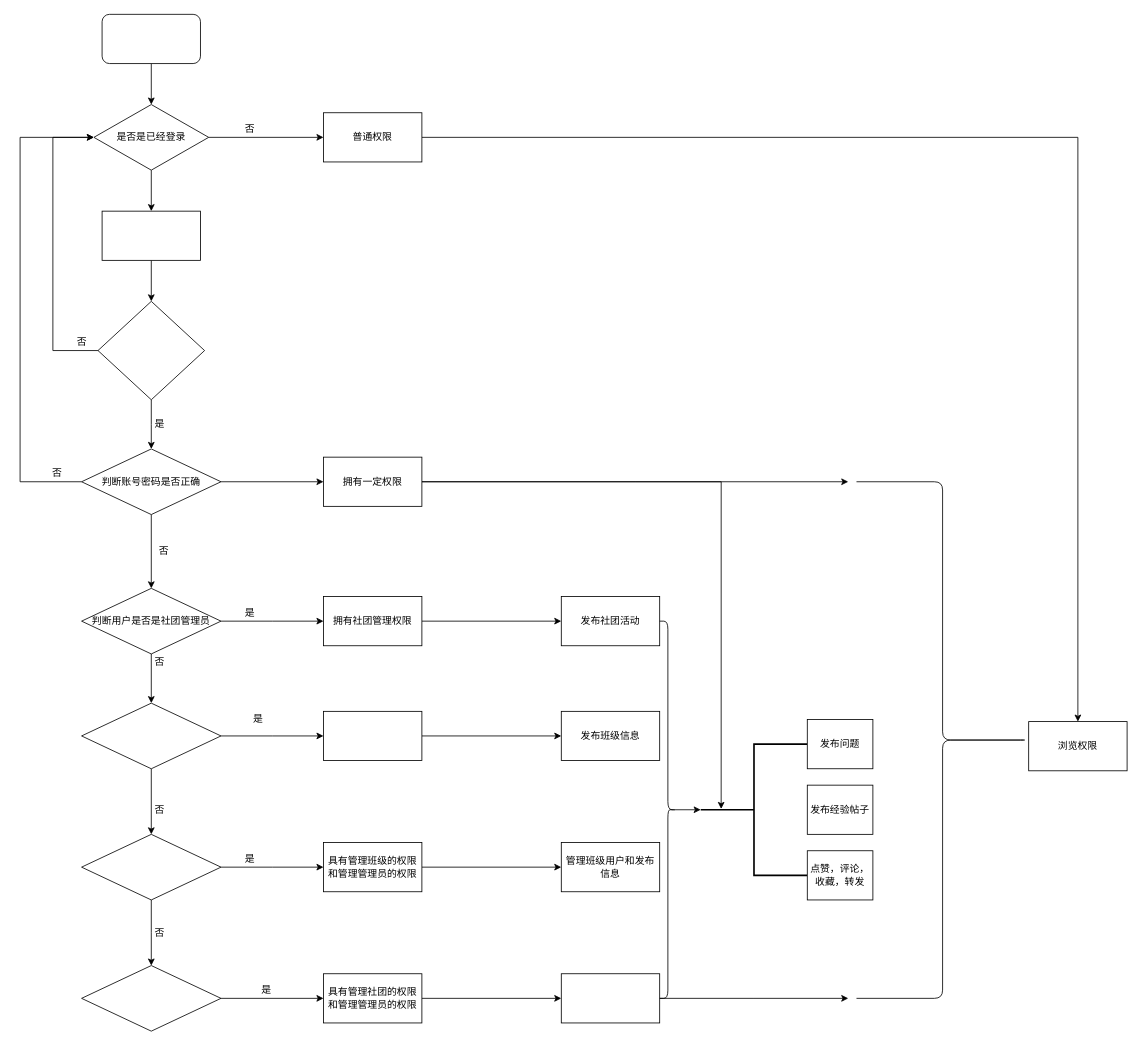
Image size: 1141x1046. Some labels were removed from this diagram. Here are the shapes that lost their labels. From the top down, the box of each, then its label:
(101, 14, 200, 64): 开始
(101, 210, 200, 260): 输入用户名和密码
(97, 301, 205, 400): 判断用户是否存在
(81, 702, 221, 769): 判断用户是否是班级管理员
(323, 711, 422, 761): 拥有班级管理权限
(81, 834, 221, 900): 判断用户是否是班级团支书
(81, 965, 221, 1031): 判断用户是否是社团创始人
(560, 973, 660, 1023): 管理社团用户和发布信息
